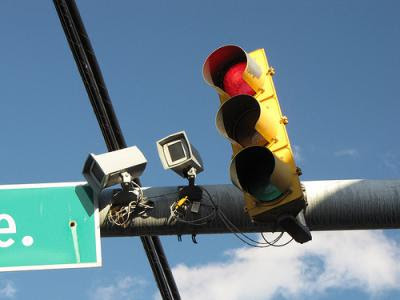trafficlight_red: (203, 45, 273, 203)
